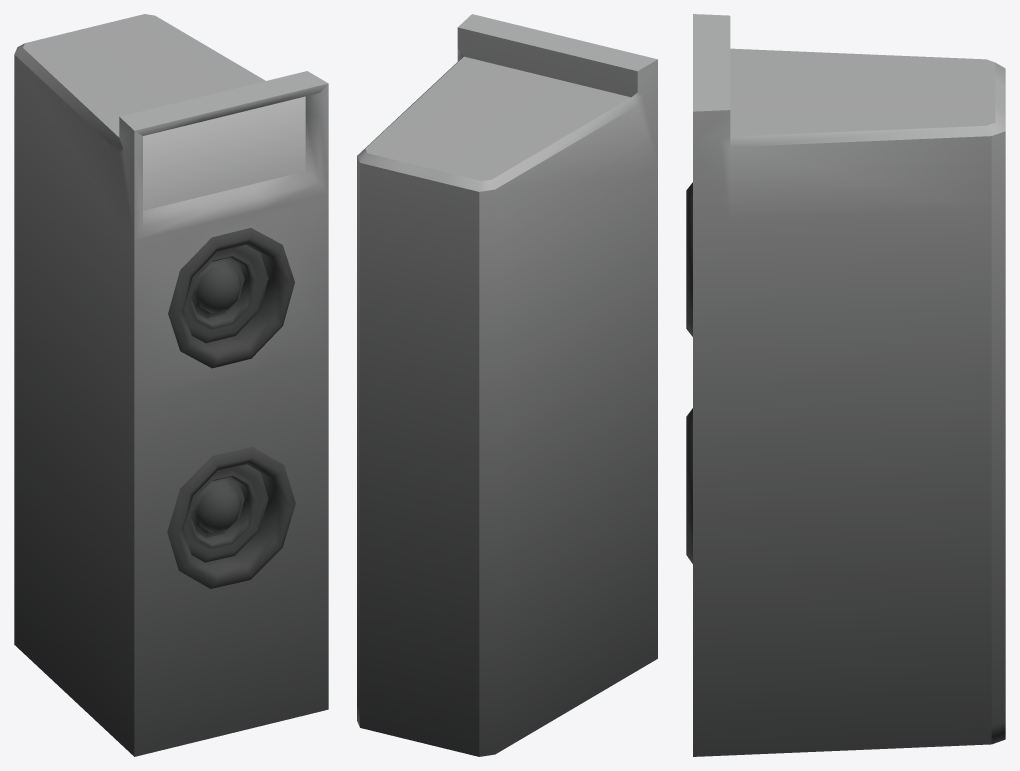
Rendered from Disco_Speaker.fbx.
3 views of the same model, side by side, from view 1: azimuth 30°, elevation 25°; view 2: azimuth 150°, elevation 25°; view 3: azimuth 270°, elevation 25° (orthographic). The views are drawn at different scales.
Parts seen in each view (by area): view 1: Disco_Speaker; view 2: Disco_Speaker; view 3: Disco_Speaker.
Boxes of the visible parts, bbox=[...] form: Disco_Speaker: bbox=[14, 14, 328, 756]; Disco_Speaker: bbox=[357, 14, 657, 756]; Disco_Speaker: bbox=[686, 14, 1005, 756].
Bounding box in the file's own units: 0.5866 × 1.81 × 0.8113.
